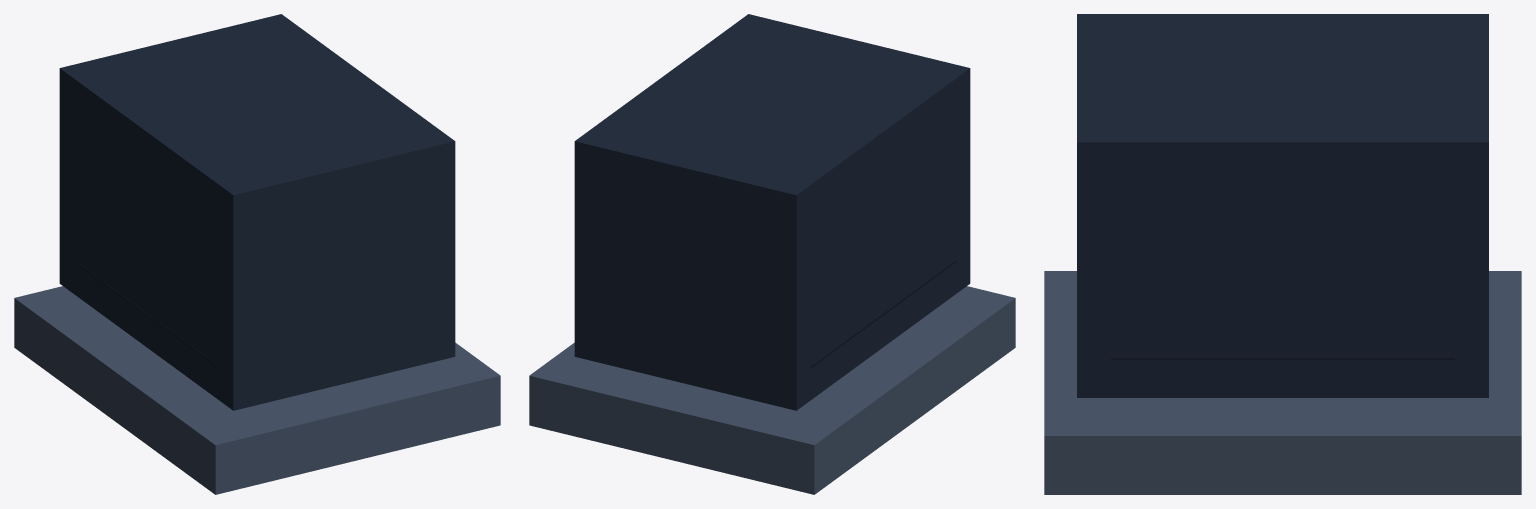
Rendered from primary_descaler.glb.
3 views of the same model, side by side, from view 1: azimuth 30°, elevation 25°; view 2: azimuth 150°, elevation 25°; view 3: azimuth 270°, elevation 25° (orthographic). The views are drawn at different scales.
Parts seen in each view (by area): view 1: PrimaryDescaler; view 2: PrimaryDescaler; view 3: PrimaryDescaler, DescalerRoller_3.
Part boxes in pixels (bbox=[...]): PrimaryDescaler: bbox=[14, 14, 500, 494]; PrimaryDescaler: bbox=[529, 14, 1015, 494]; PrimaryDescaler: bbox=[1044, 14, 1521, 494]; DescalerRoller_3: bbox=[1111, 358, 1454, 359].
Size of the model in its own units: 3.6 by 3.4 by 4.4.
